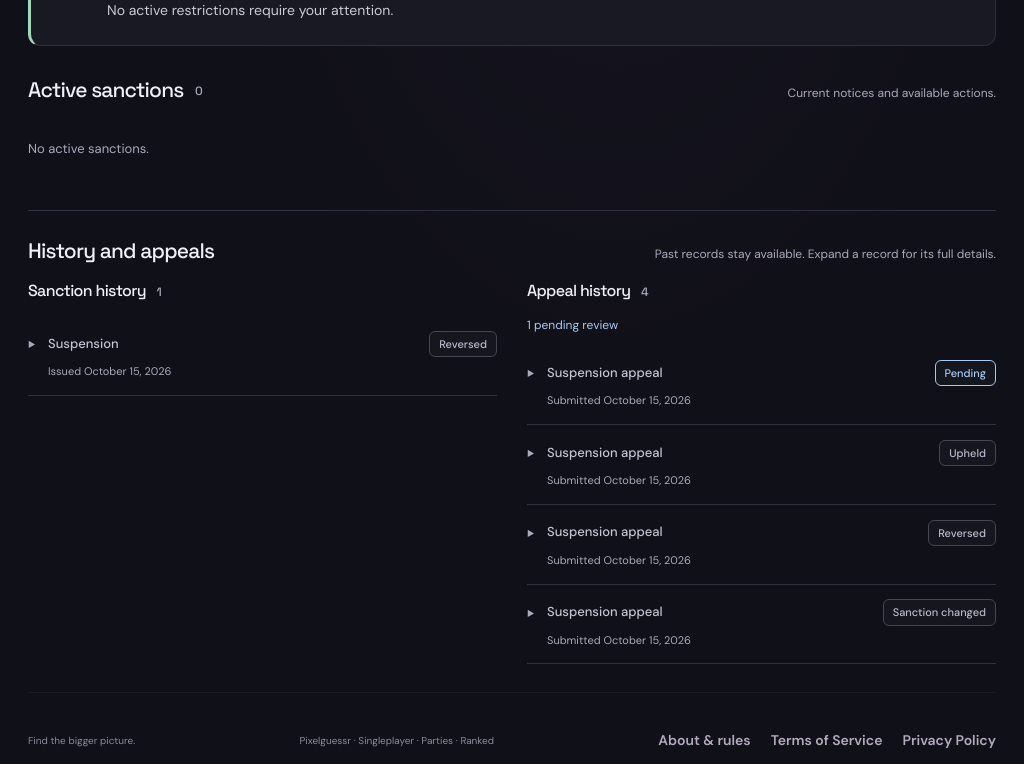
uses neutral historical sanctions, blue pending appeals and readable decisions with expandable details
(page scrolled)
Expected: the text "Full pending explanation" is not shown
Click the heading "Suspension appeal Pending Submitted October 15, 2026".
click(582, 372)  # box [543,359,996,410]
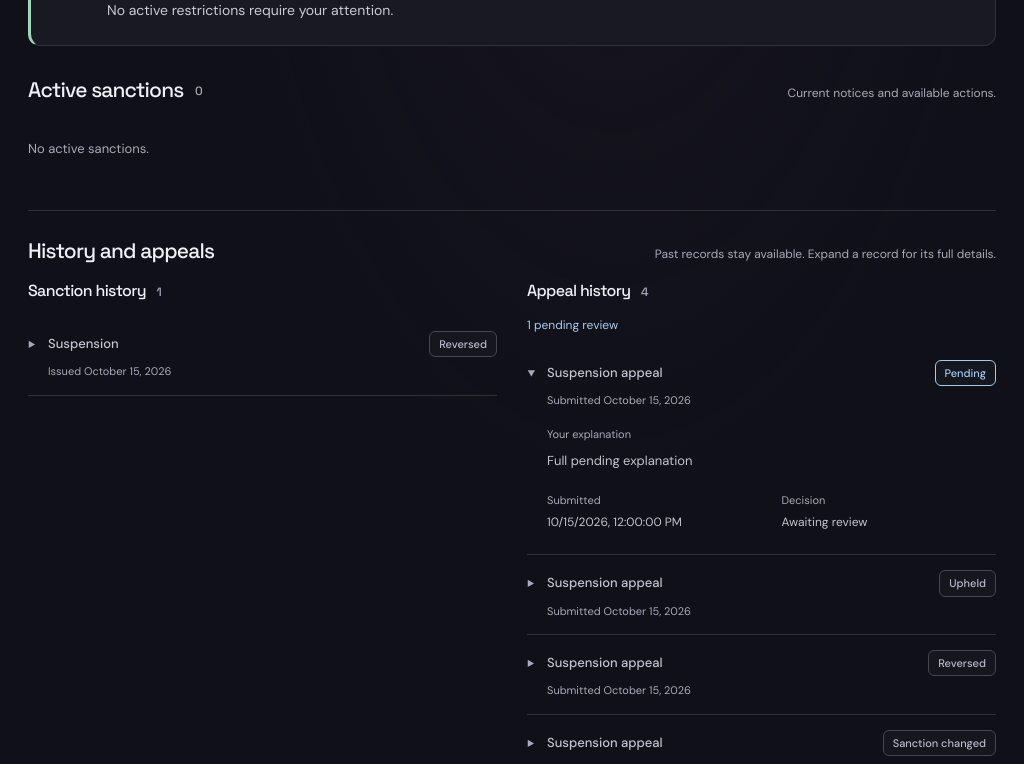
Expected: the text "Upheld" is shown, [939,570,996,597]
Now the text "Full pending explanation" is shown, box [547,452,692,469]
